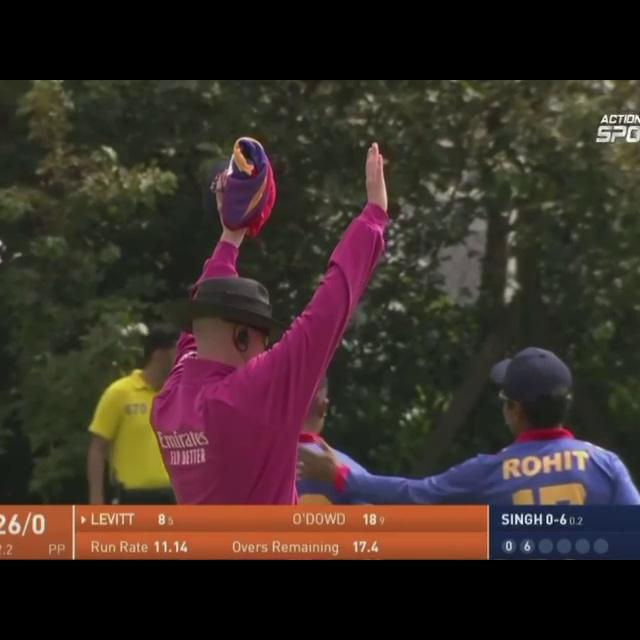umpire: (140, 91, 397, 468)
